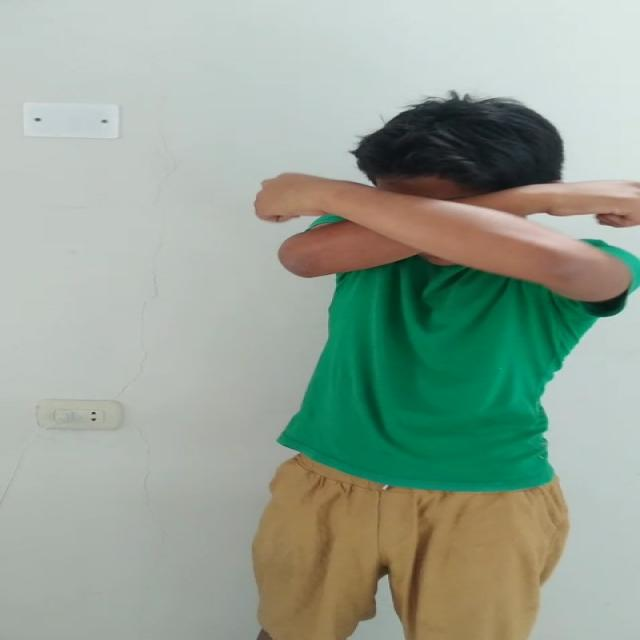7_mano_rostro: (254, 170, 556, 276)
